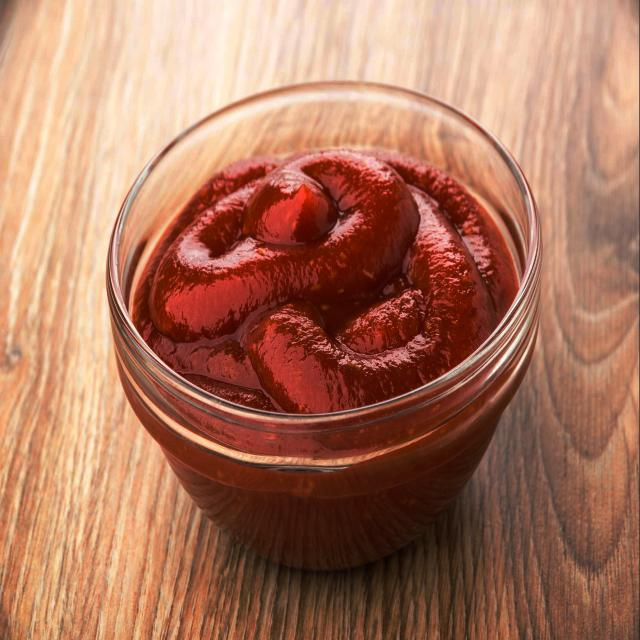ketchup: (144, 122, 526, 553)
